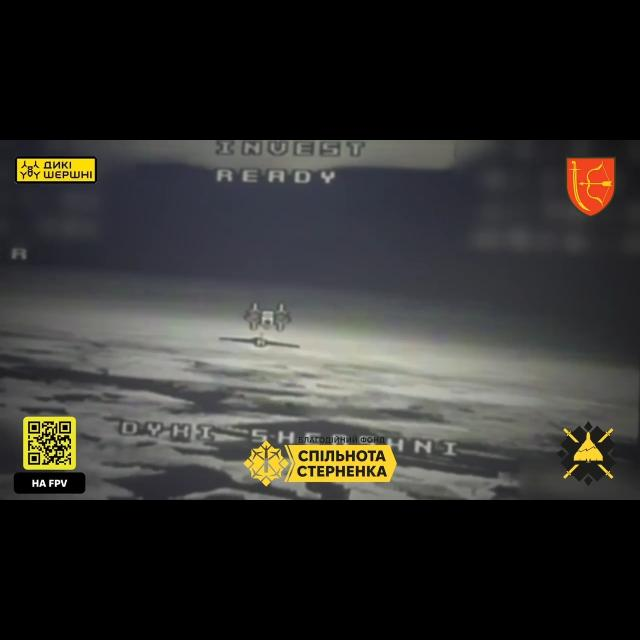Gerbera: (219, 335, 301, 349)
